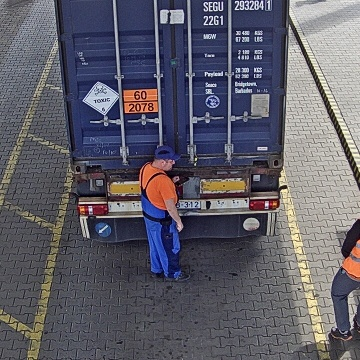serial_id: (203, 0, 272, 11)
